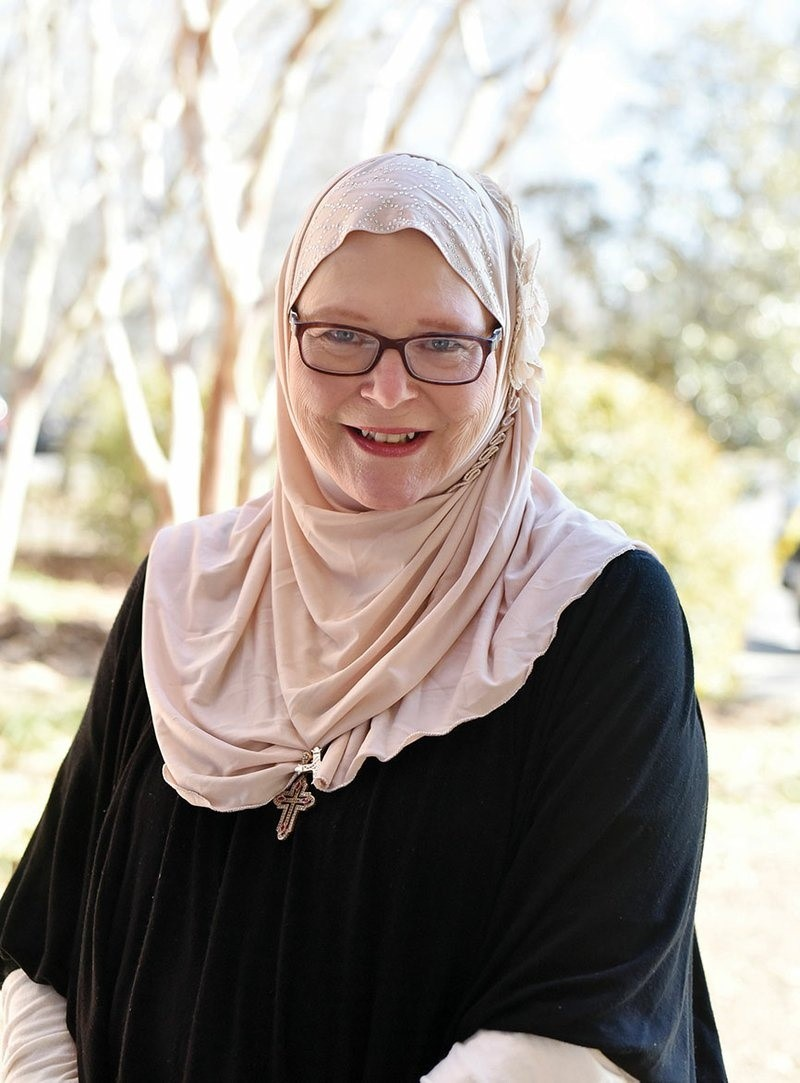face_no_mask: (285, 206, 528, 515)
